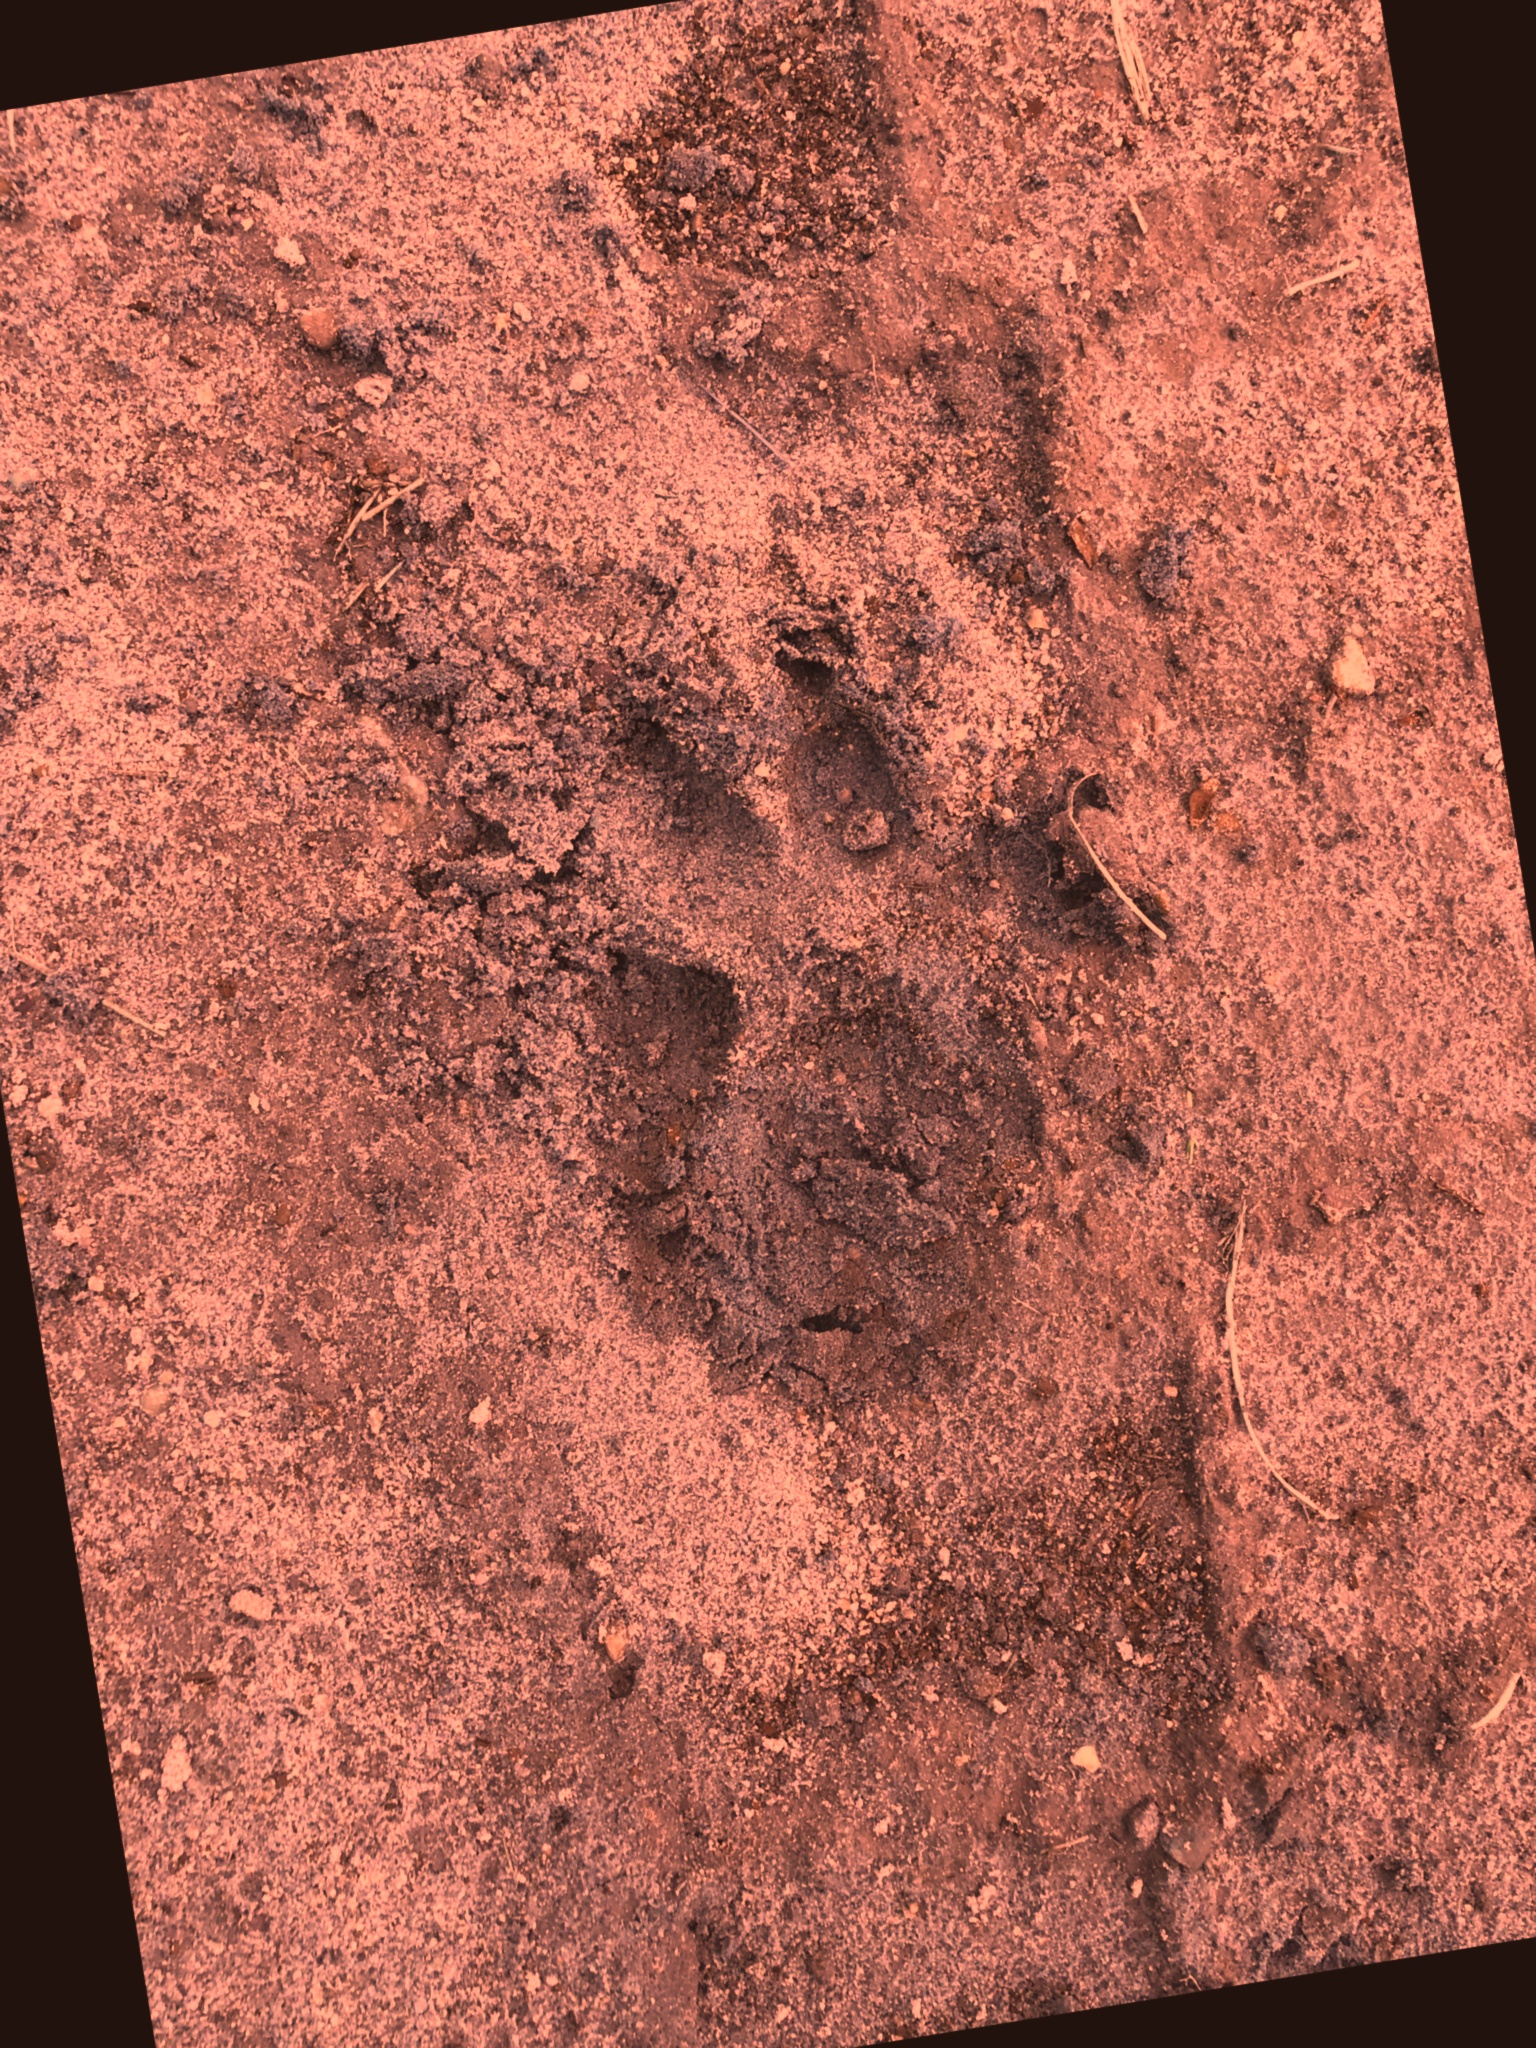loup: (286, 418, 1102, 1521)
